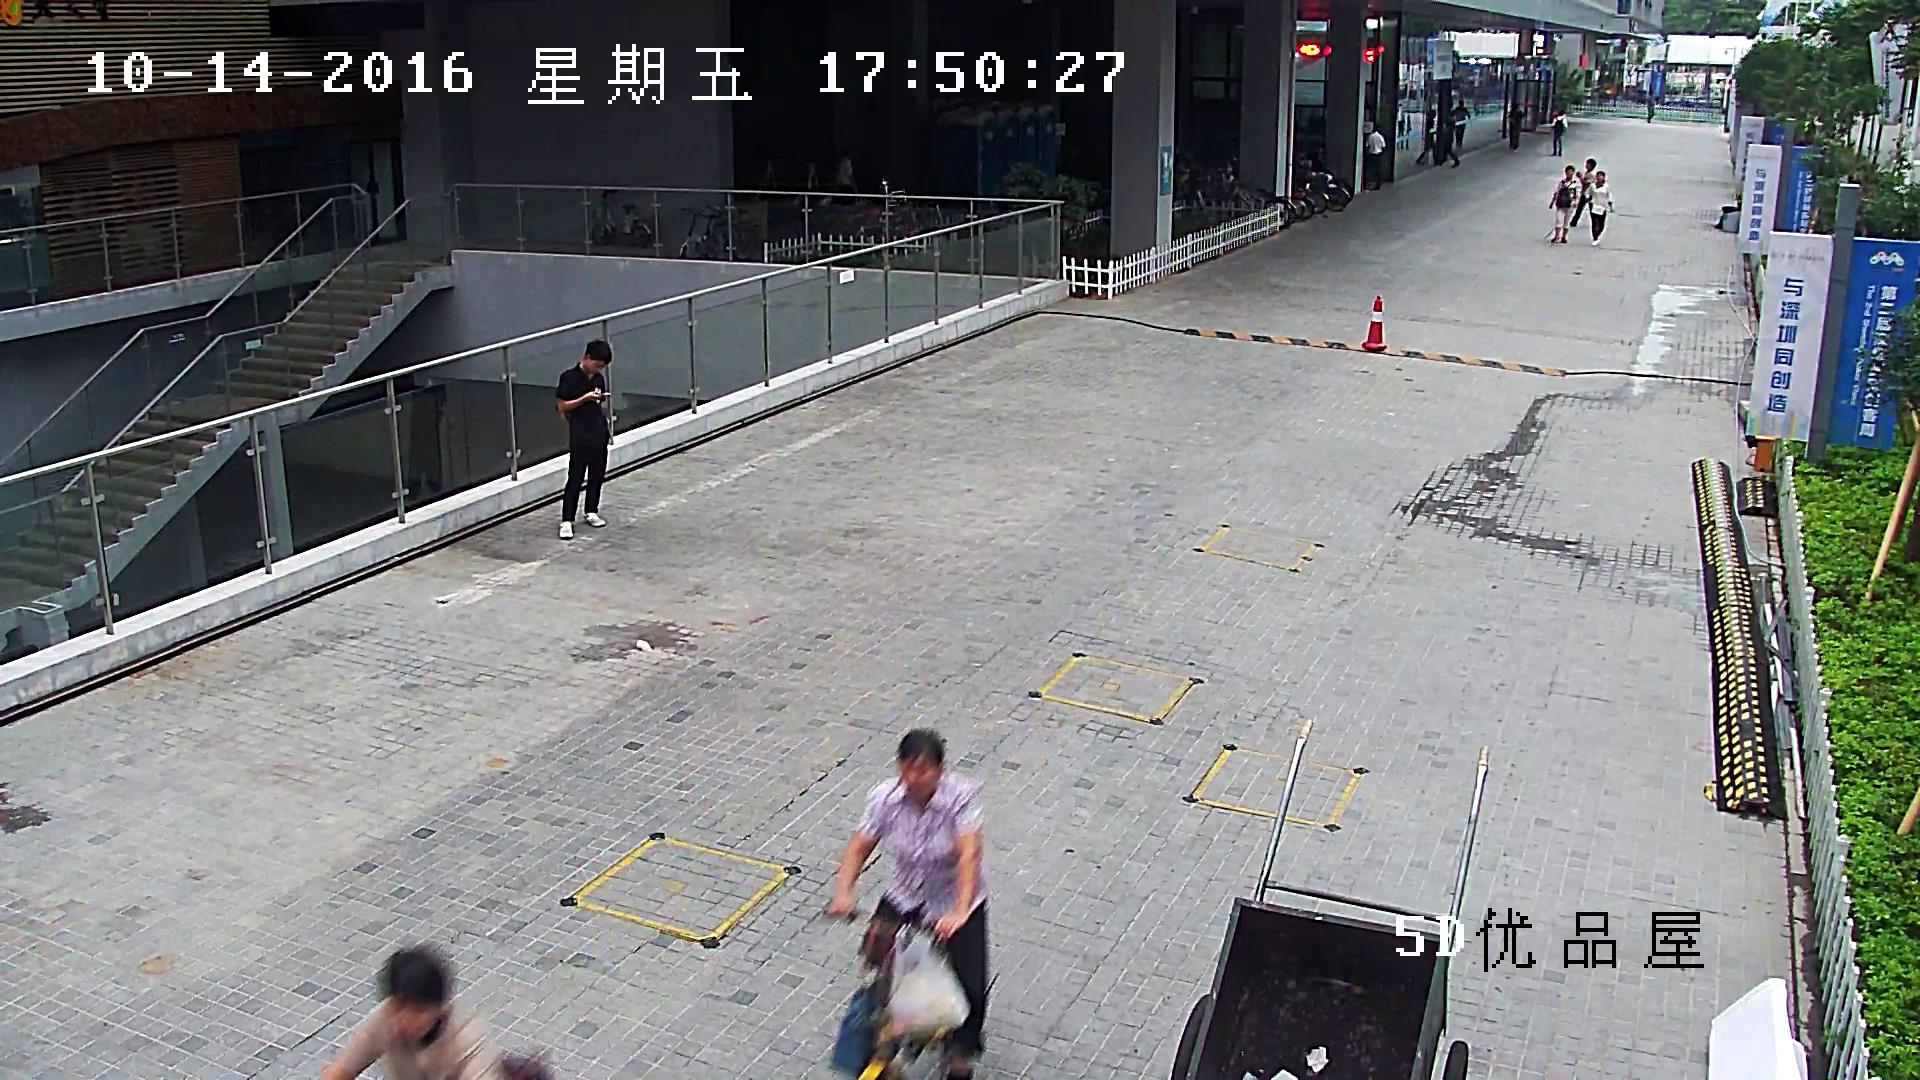person: (830, 728, 990, 1078), (831, 729, 988, 1080), (322, 942, 483, 1078), (554, 339, 613, 538), (1583, 171, 1614, 246), (1548, 165, 1579, 243), (1569, 158, 1597, 227), (1365, 123, 1385, 191), (1438, 109, 1460, 168), (1451, 98, 1471, 152), (1550, 110, 1567, 157), (1508, 102, 1522, 151), (1646, 91, 1654, 123)
